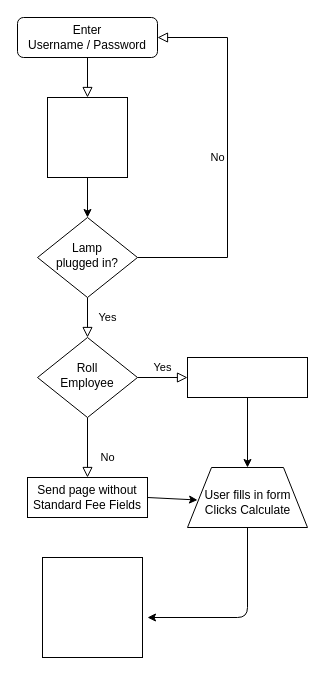
Some shapes in this 325 by 675 pixel diagram are drawn without their labels. The centre of each missing label's shape, as x and y in pixels:
"Open Invoice Summary Pop-up Window" belongs at point (92, 607).
"Send page with Standard Fee Fields" belongs at point (247, 377).
"Verify Username Password" belongs at point (87, 137).
